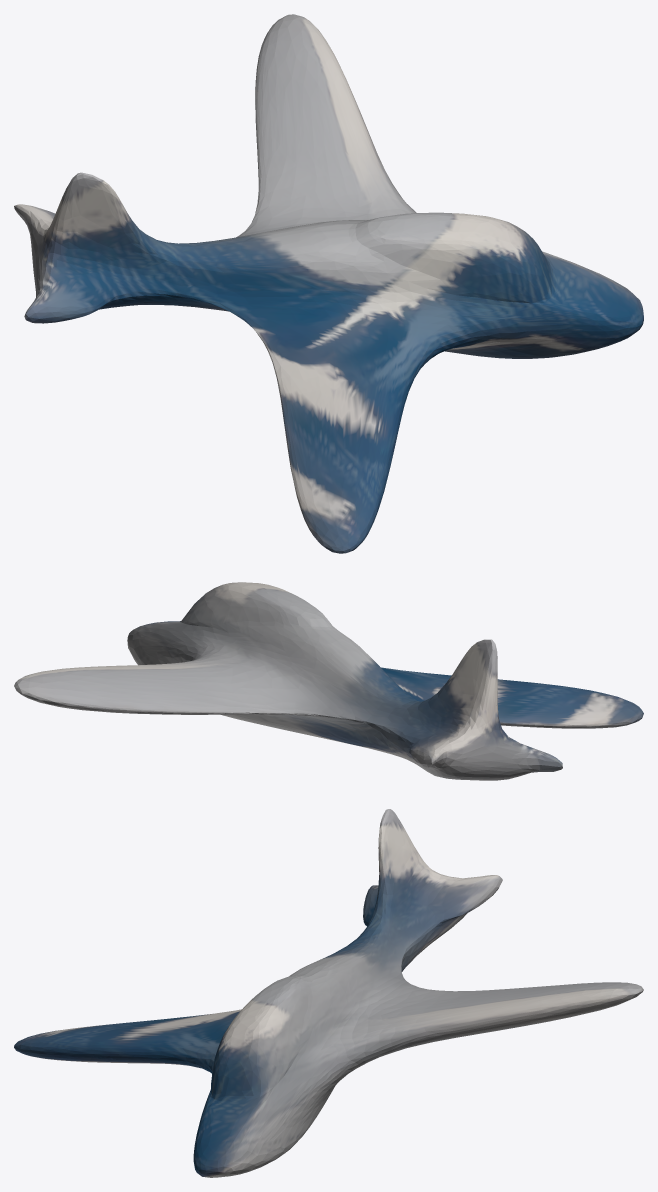
3 renders of one model, top to bottom at view 1: azimuth 30°, elevation 25°; view 2: azimuth 150°, elevation 25°; view 3: azimuth 270°, elevation 25°, orthographic. The views are drawn at different scales.
Parts seen in each view (by area): view 1: geometry_0; view 2: geometry_0; view 3: geometry_0.
Part boxes in pixels (left/top/right/bottom): geometry_0: left=14, top=14, right=643, bottom=553; geometry_0: left=14, top=582, right=643, bottom=780; geometry_0: left=14, top=809, right=643, bottom=1177.
Bounding box in the file's own units: 0.87 × 0.3798 × 1.
